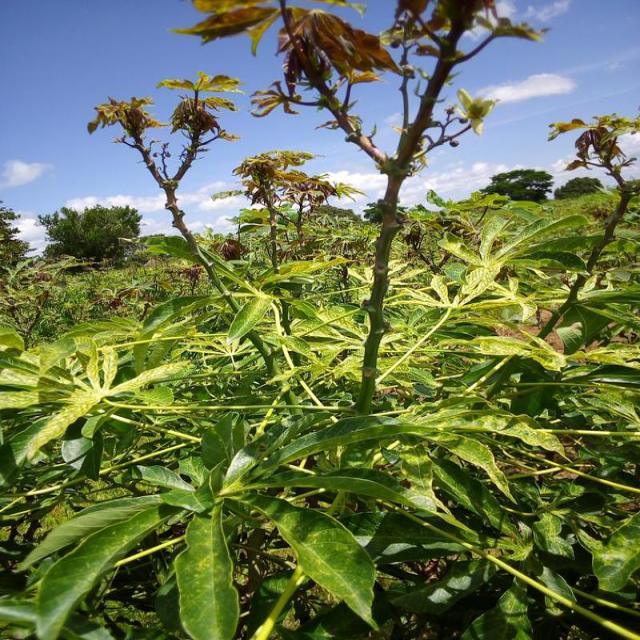cassava leaf: (173, 502, 240, 639), (226, 292, 272, 345)
